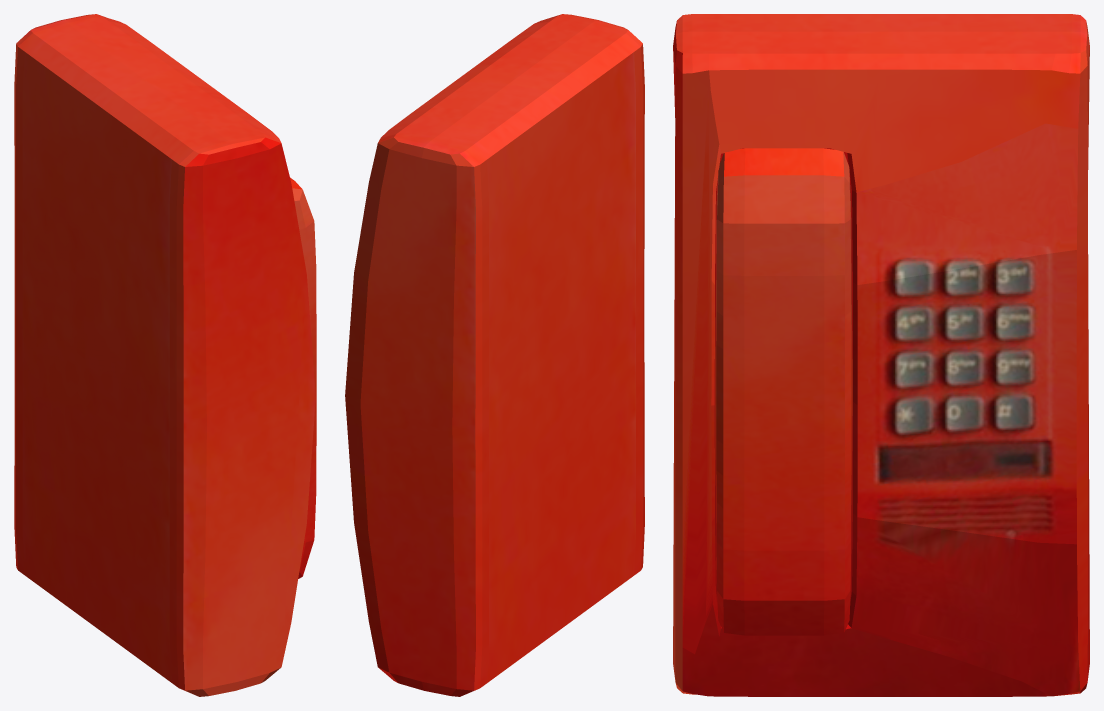
The model's file is Telephone.fbx.
3 renders of one model, left to right at view 1: azimuth 30°, elevation 25°; view 2: azimuth 150°, elevation 25°; view 3: azimuth 270°, elevation 25°, orthographic. The views are drawn at different scales.
Visible parts, largest first — view 1: Cube, Куб; view 2: Cube; view 3: Cube, Куб.
Part boxes in pixels (box(x1,y1,x2,y2)): Cube: box(14, 14, 315, 696); Куб: box(290, 177, 316, 578); Cube: box(345, 14, 644, 696); Cube: box(673, 14, 1089, 696); Куб: box(715, 148, 852, 635).
Size of the model in its own units: 300 by 1018 by 596.
